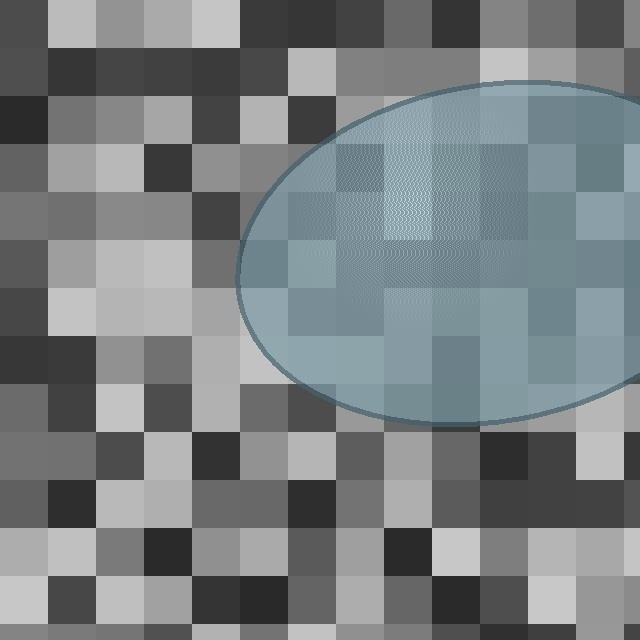lens: (239, 82, 640, 424)
